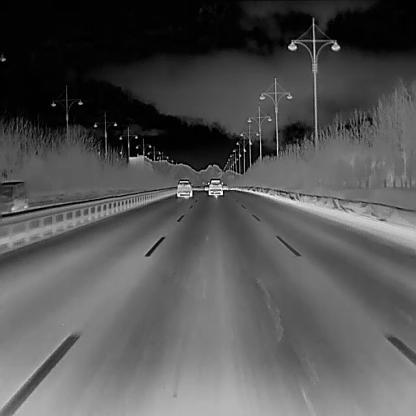car: (0, 177, 25, 213), (176, 178, 191, 197), (207, 176, 222, 195), (221, 182, 227, 188), (204, 184, 208, 189)
